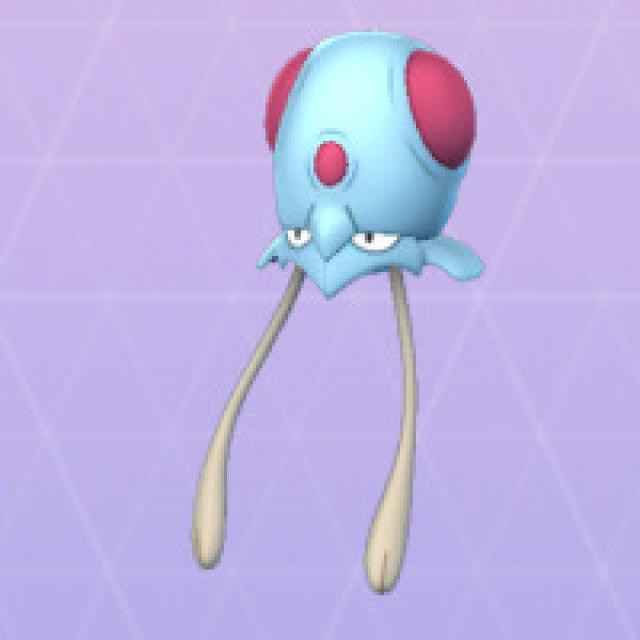Tentacool: (209, 10, 496, 414)
